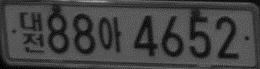2: (216, 15, 239, 59)
4: (134, 14, 157, 56)
5: (188, 15, 212, 58)
6: (161, 15, 183, 57)
8: (72, 12, 95, 54), (47, 12, 69, 53)
대전_V: (18, 10, 45, 53)
아: (98, 16, 122, 51)
